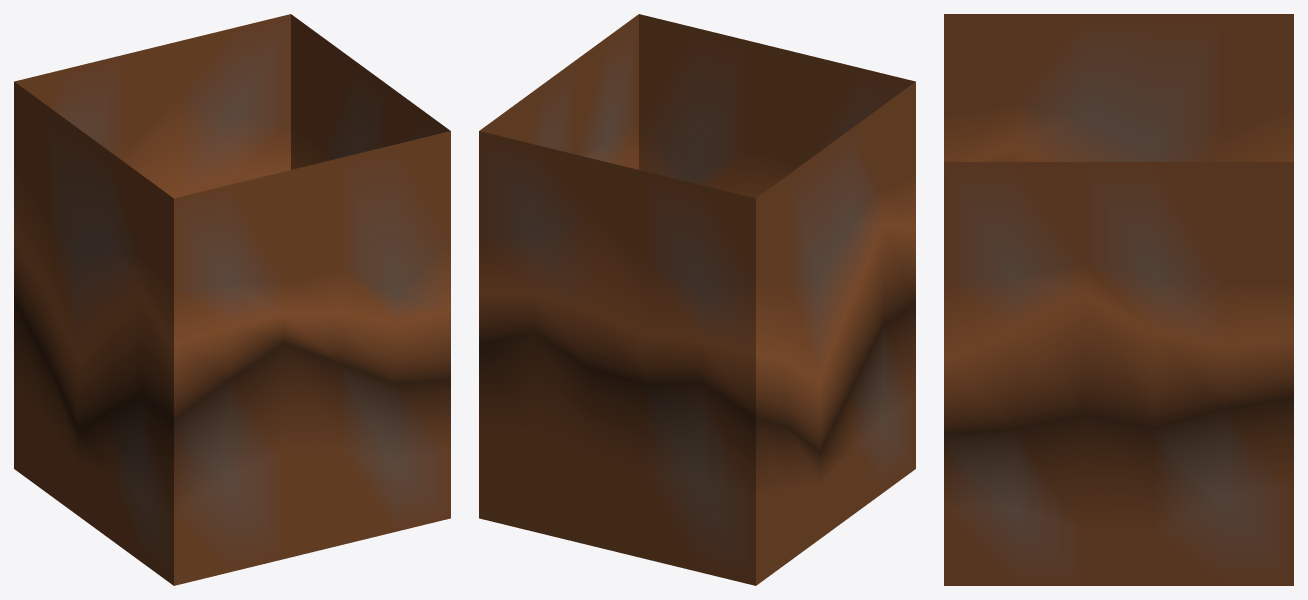
File: DirtBlock2_1.1.fbx
3 renders of one model, left to right at view 1: azimuth 30°, elevation 25°; view 2: azimuth 150°, elevation 25°; view 3: azimuth 270°, elevation 25°, orthographic. The views are drawn at different scales.
Parts seen in each view (by area): view 1: DirtBlock1; view 2: DirtBlock1; view 3: DirtBlock1.
Part boxes in pixels (bbox=[...]): DirtBlock1: bbox=[14, 14, 450, 585]; DirtBlock1: bbox=[479, 14, 915, 585]; DirtBlock1: bbox=[944, 14, 1293, 585].
Size of the model in its own units: 200 by 267 by 200.
